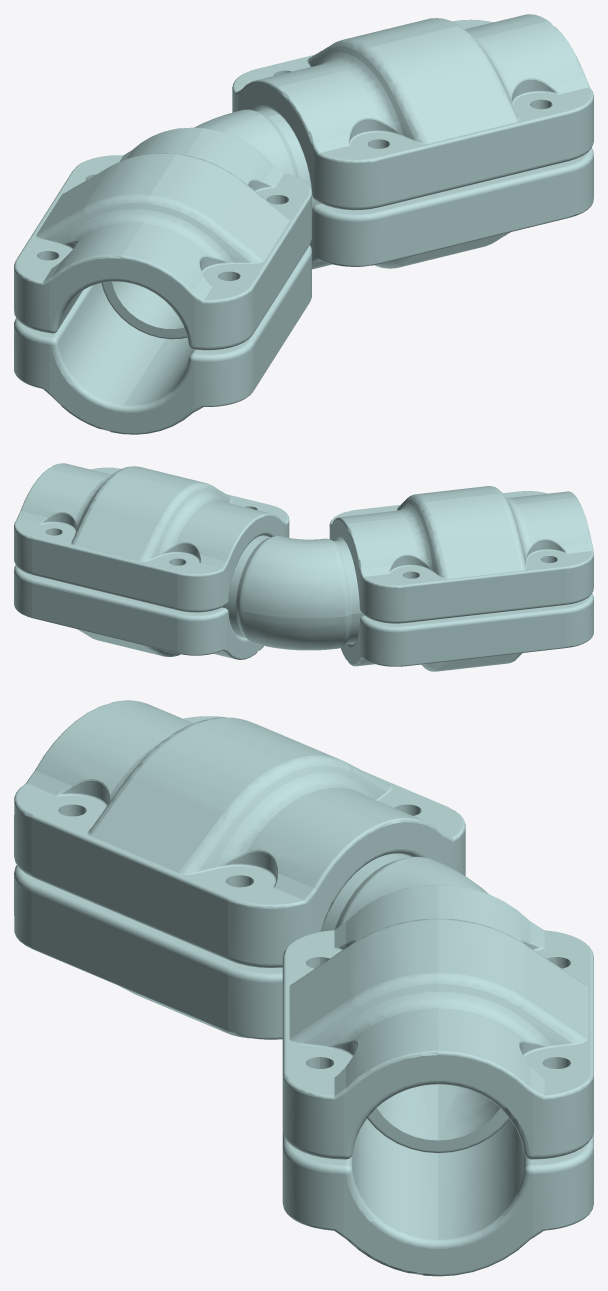
3 renders of one model, top to bottom at view 1: azimuth 30°, elevation 25°; view 2: azimuth 150°, elevation 25°; view 3: azimuth 270°, elevation 25°, orthographic. The views are drawn at different scales.
Bounding box in the file's own units: 134 × 43.8 × 85.74.
